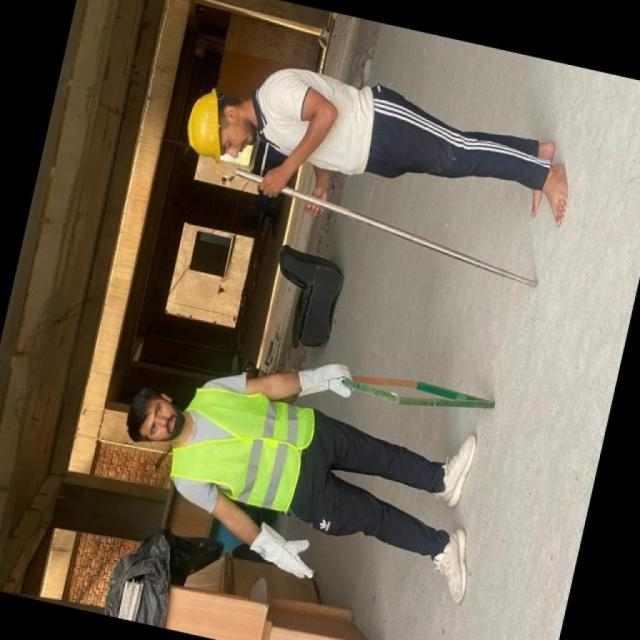Gloves-Detection: (250, 523, 324, 590), (294, 360, 353, 399)
